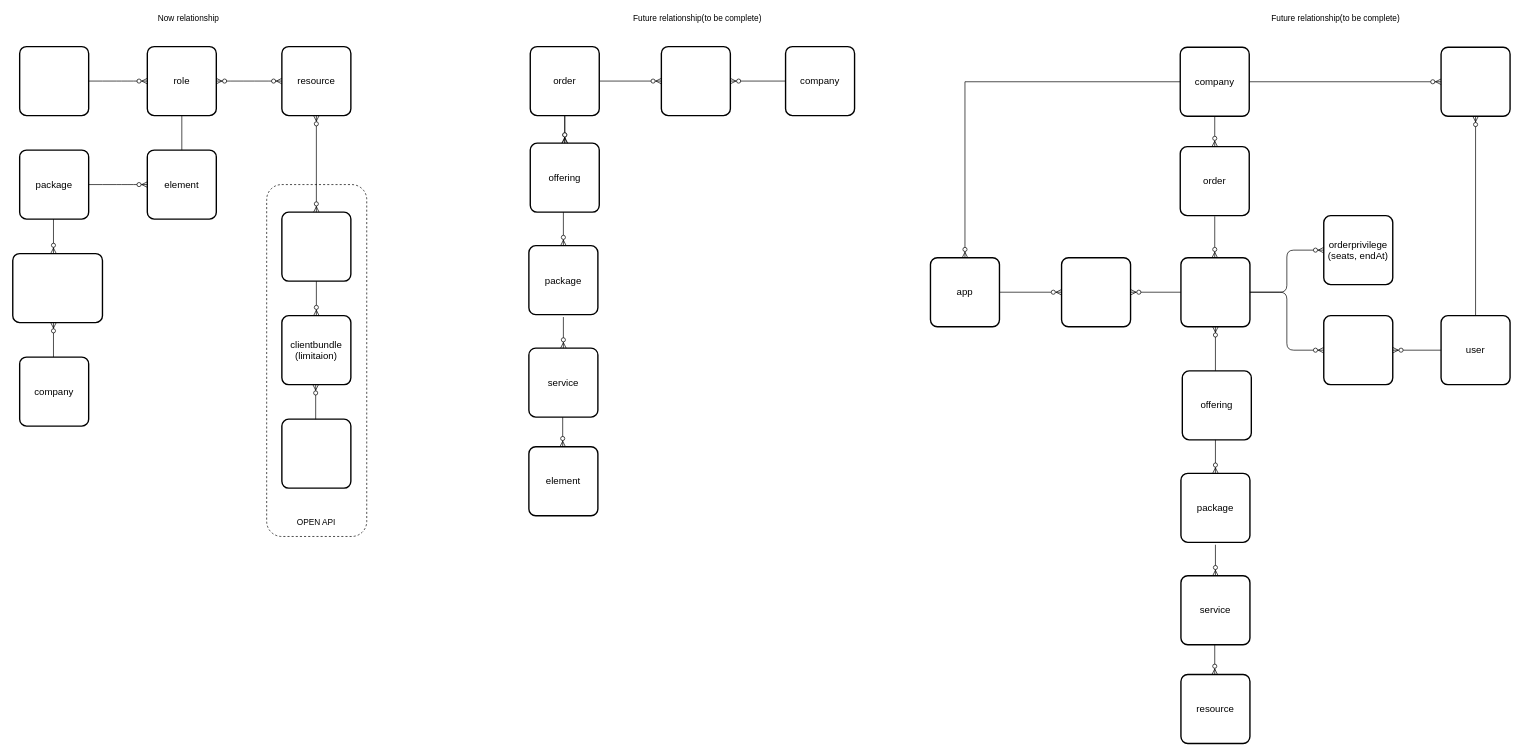
The diagram is 1522 pixels wide and 756 high, and some of its shapes have lost their labels. The box of each missing label's shape, as (x1, y1, x2, y2) in pixels:
app_privilege: (1061, 257, 1131, 327)
bundle: (281, 211, 351, 282)
client: (281, 418, 351, 489)
companyorder: (660, 46, 731, 116)
companypackage (seats): (12, 253, 103, 323)
orderoffering (privilege): (1180, 257, 1250, 327)
product: (19, 46, 89, 116)
usercompany: (1440, 46, 1510, 117)
userprivilege: (1323, 315, 1393, 385)
